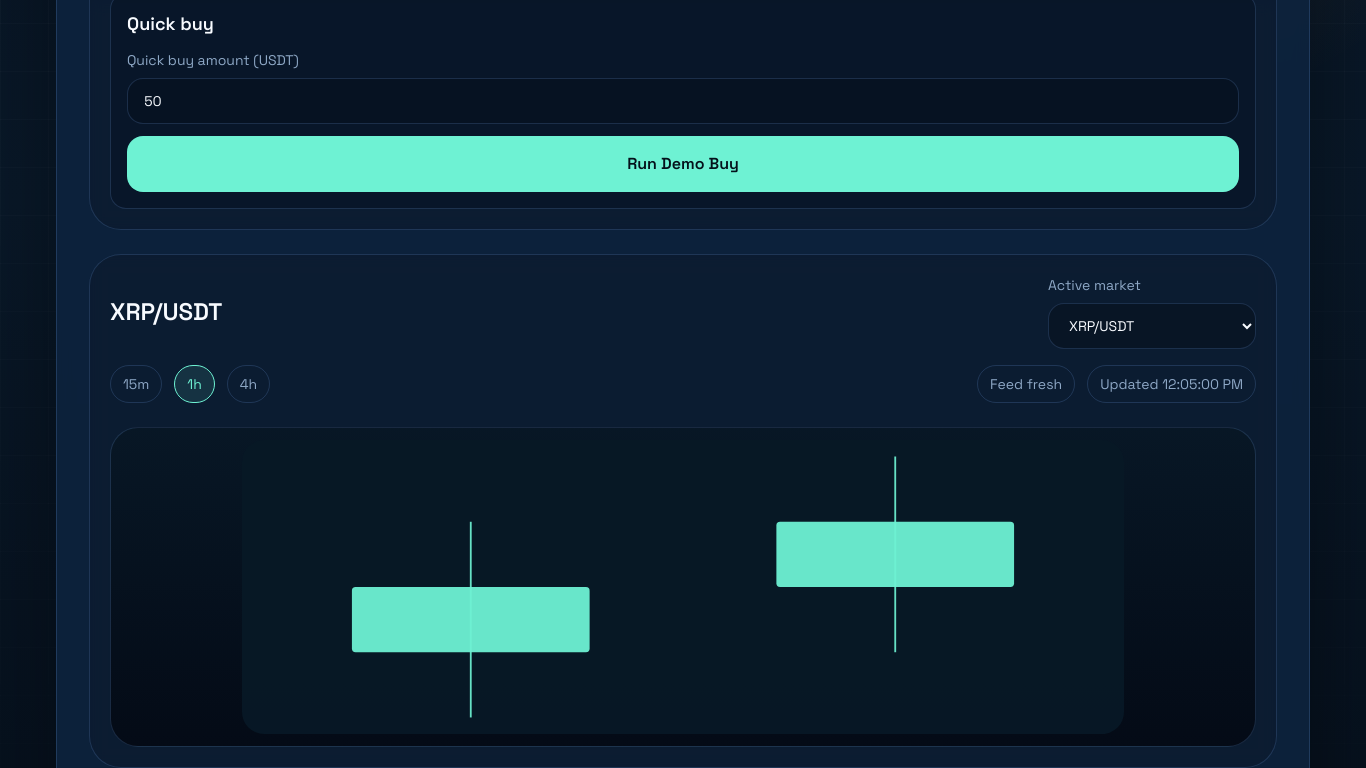
Scenario: Hero › refreshes only chart data when the interval changes
This screenshot has width=1366, height=768.
(page scrolled)
Click the button "15m". click: (136,384)
box: [110,365,162,403]
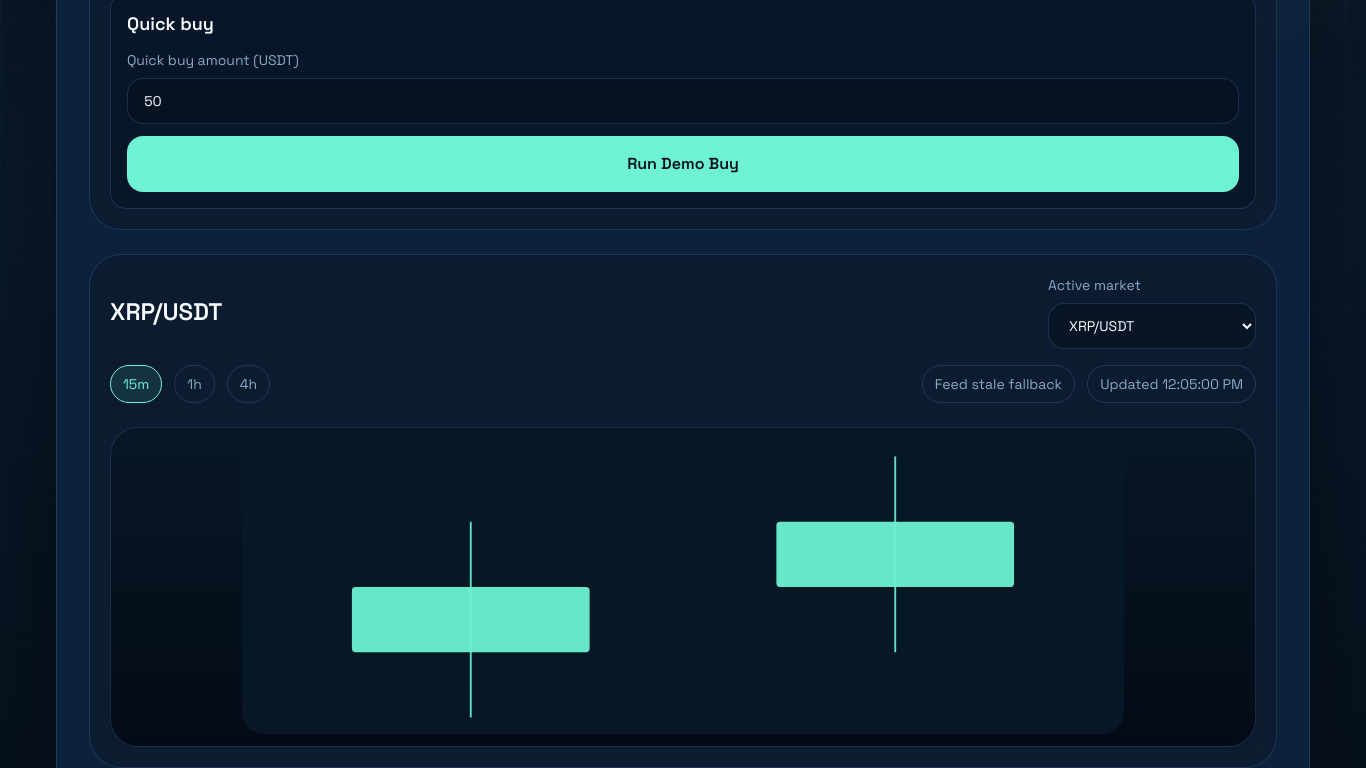
Expected: the text "Feed stale fallback" is shown, [922,365,1075,403]
